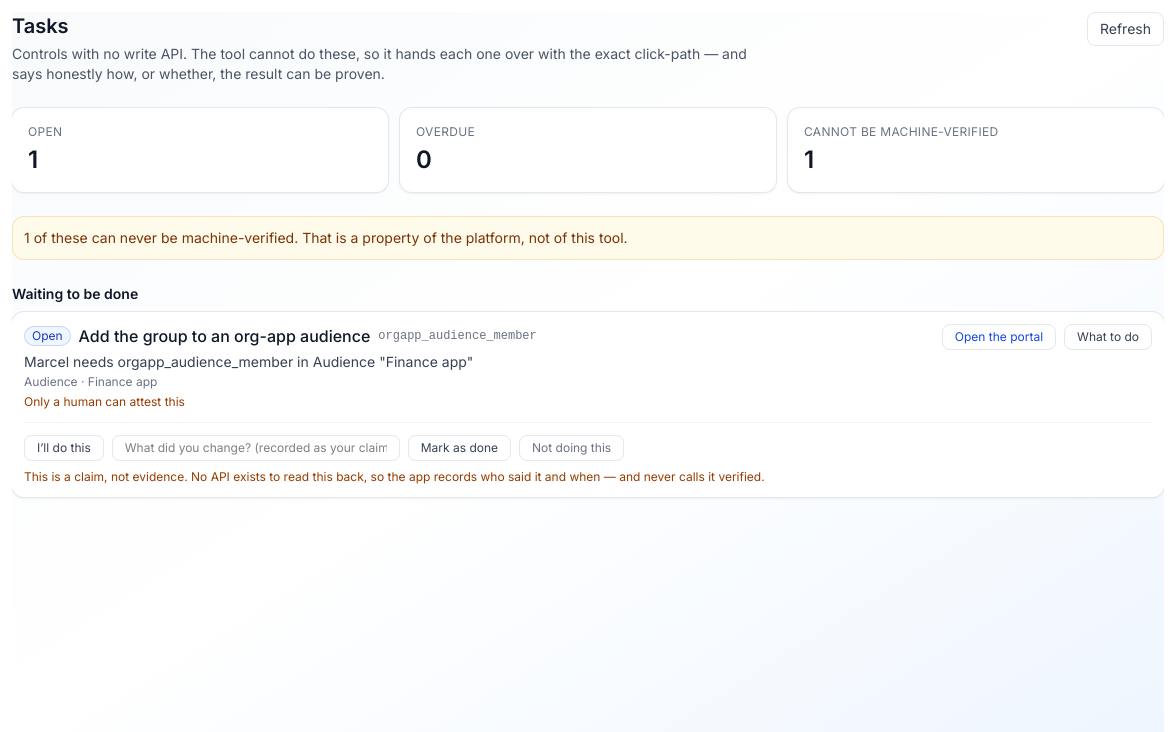
it: Task queue › shows the work with its click-path and a portal link
Expected: the text "Add the group to an org-app audience" is shown, [79, 324, 370, 348]
Step 1. Click the button "What to do" → [1108, 337], box [1064, 324, 1152, 350]
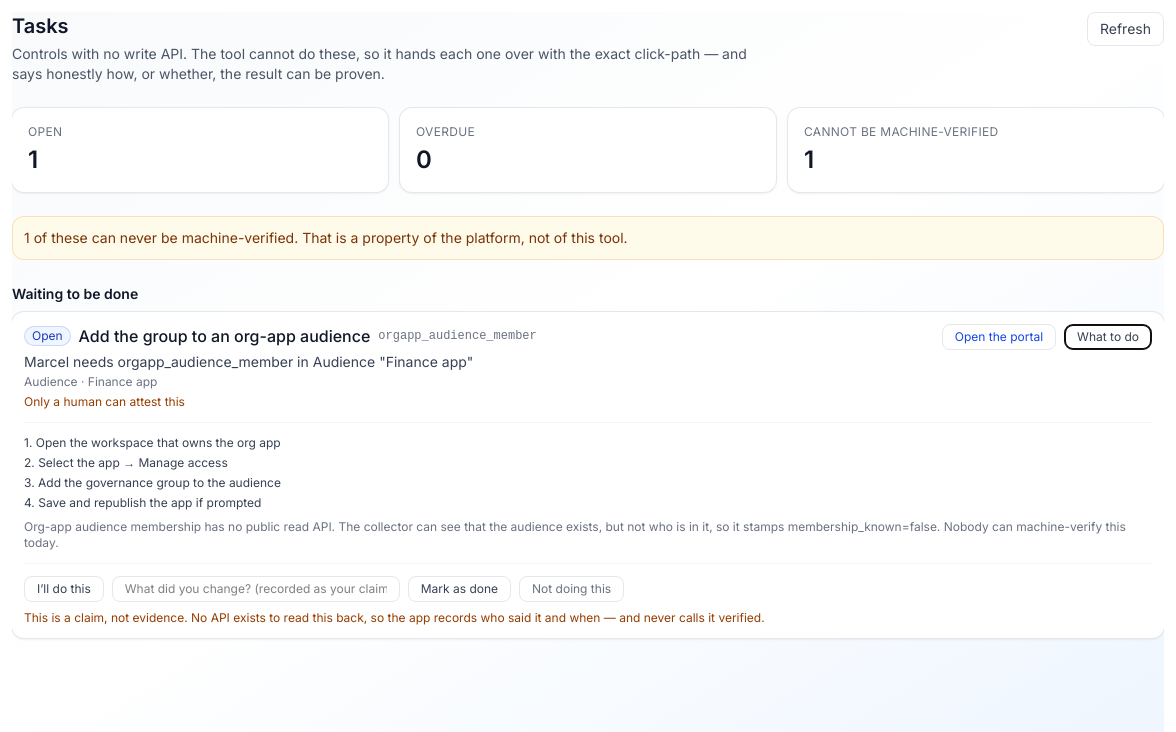
Expected: the list item "2. Select the app → Manage access" is shown, [24, 455, 228, 470]
